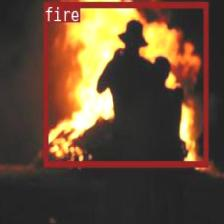fire: (43, 1, 207, 166)
